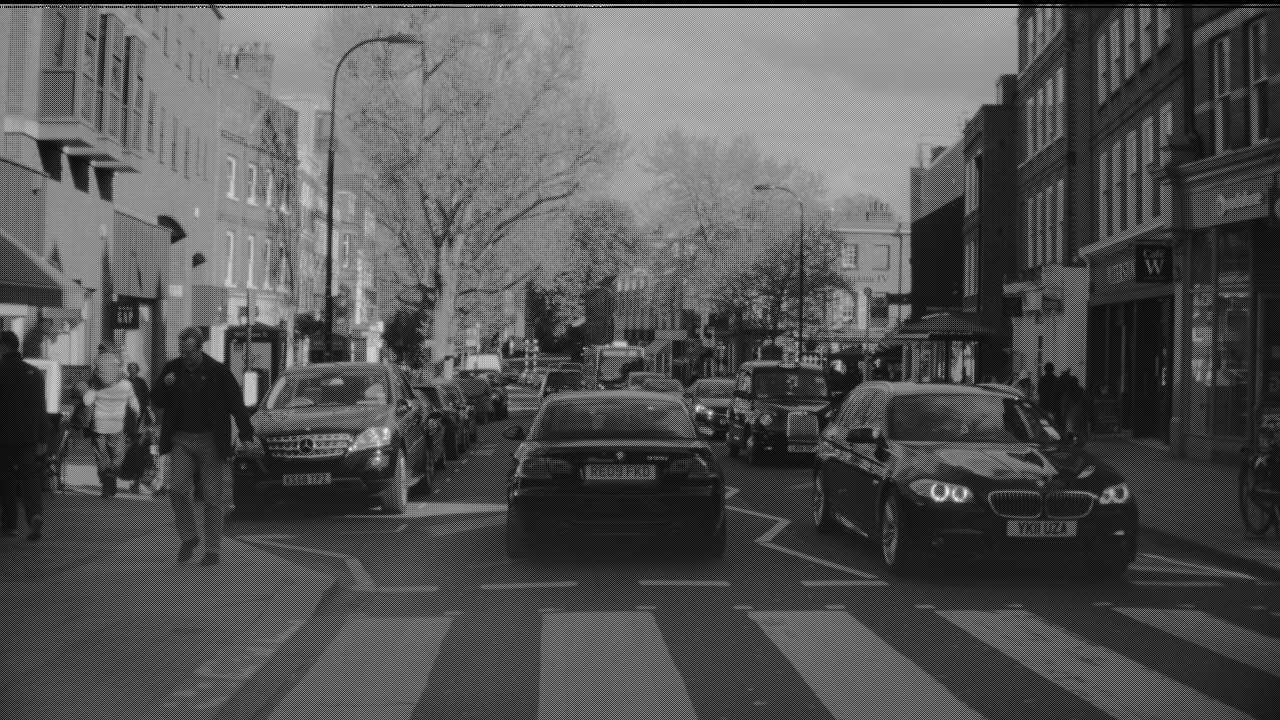pole: (325, 55, 338, 353), (798, 189, 804, 353)
